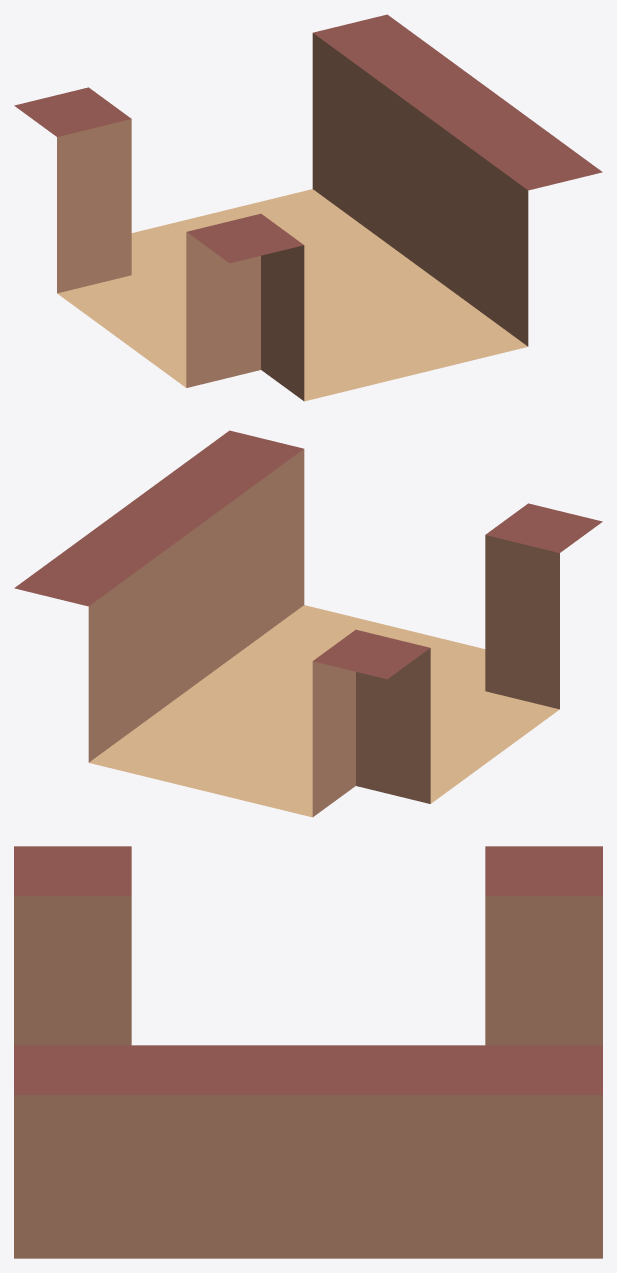
The model's file is SM_Tile_T.fbx.
The picture shows the model from 3 angles, top to bottom: view 1: azimuth 30°, elevation 25°; view 2: azimuth 150°, elevation 25°; view 3: azimuth 270°, elevation 25°; orthographic projection. The views are drawn at different scales.
Visible parts, largest first — view 1: SM_Tile_T; view 2: SM_Tile_T; view 3: SM_Tile_T.
Boxes of the visible parts, x1,y1,x2,y2 form: SM_Tile_T: [14, 14, 602, 401]; SM_Tile_T: [14, 430, 602, 817]; SM_Tile_T: [14, 846, 602, 1258].
Bounding box in the file's own units: 500 × 200 × 500.
